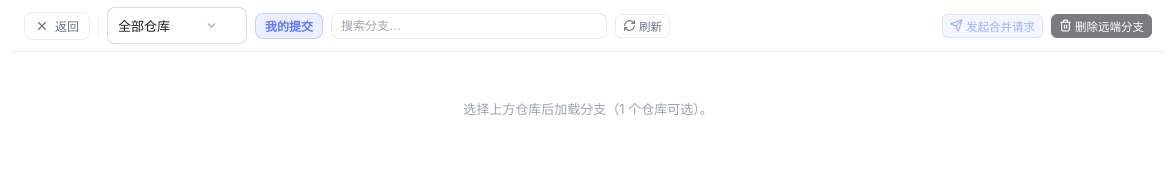
Test: PendingMrView › marks remote-only branches with the 仅远端 badge on the card
The image size is (1176, 169).
What coordinates should you click on to do the following:
click the dropdown labelled "全部仓库"
I would click on:
 (177, 26)
Its box is [107, 7, 247, 44].
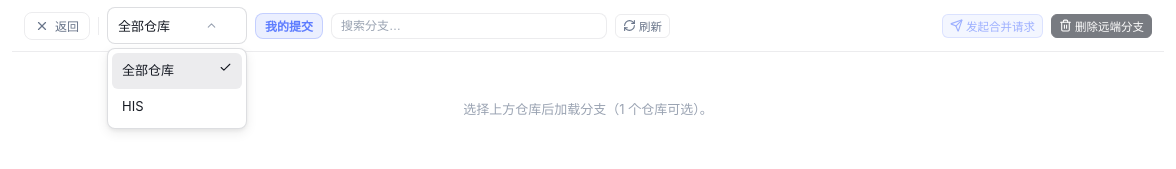
What coordinates should you click on to do the following:
click the option "HIS"
I would click on:
 (133, 106)
Its box is [122, 98, 144, 114].
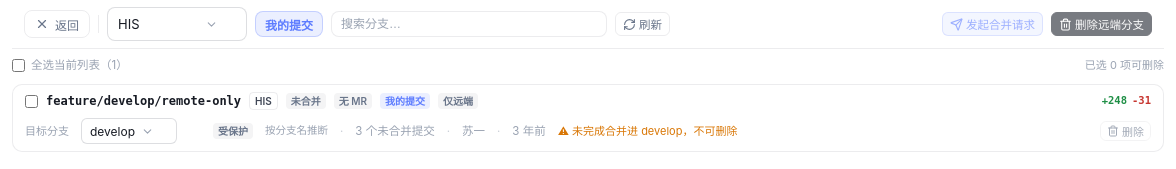
Expected: the text "feature/develop/remote-only" is shown, [46, 92, 241, 110]
